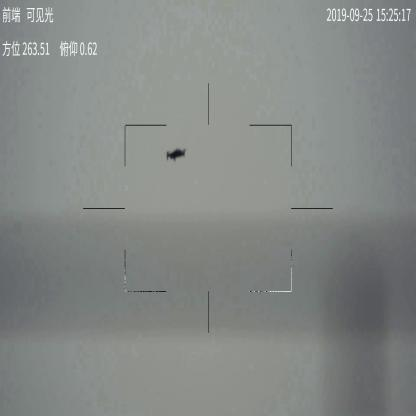uav: (166, 148, 187, 164)
